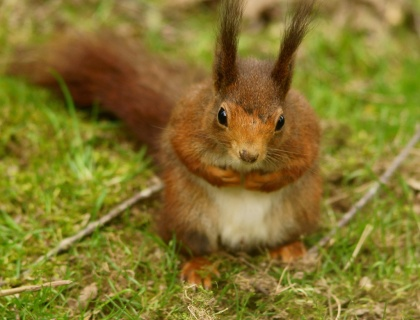Squirrel: (4, 0, 351, 292)
